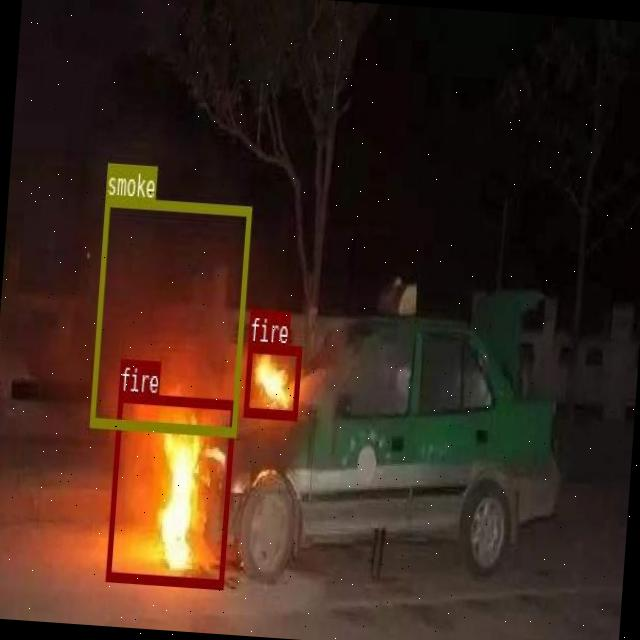fire: (106, 392, 236, 587), (242, 342, 301, 419)
smoke: (88, 196, 251, 436)
